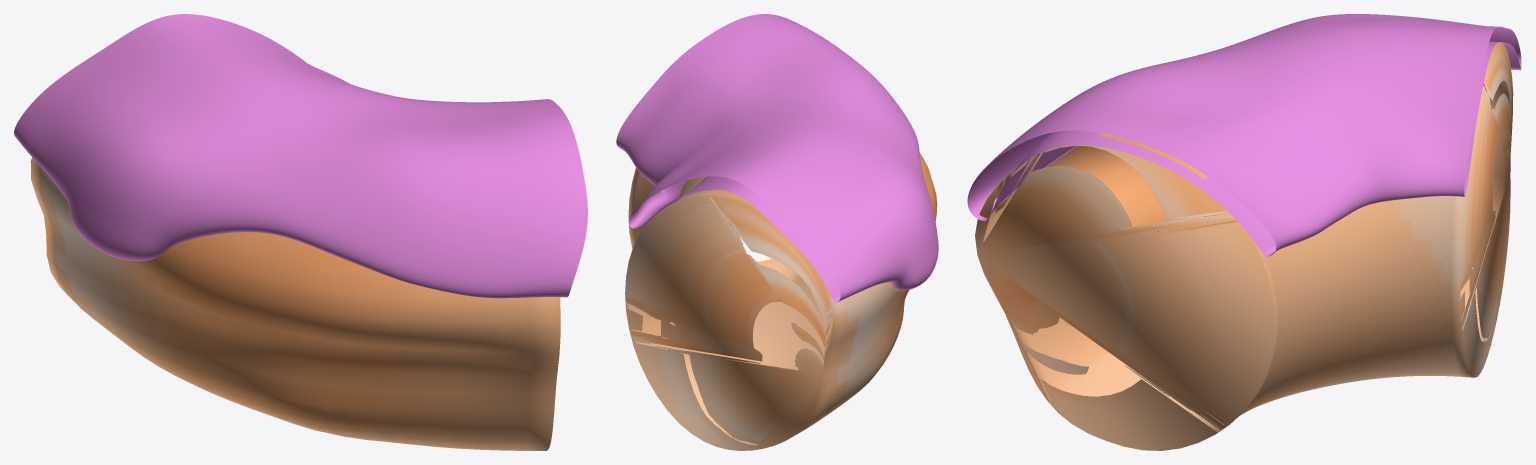
Rendered from BlenderDonutChunk.fbx.
The picture shows the model from 3 angles, left to right: view 1: azimuth 30°, elevation 25°; view 2: azimuth 150°, elevation 25°; view 3: azimuth 270°, elevation 25°; orthographic projection. The views are drawn at different scales.
Visible parts, largest first — view 1: glazed.003, donut chunk; view 2: glazed.003, donut chunk; view 3: donut chunk, glazed.003.
Boxes of the visible parts, box(x1,y1,x2,y2) form: glazed.003: box(14, 14, 587, 298); donut chunk: box(30, 157, 560, 450); glazed.003: box(616, 14, 938, 303); donut chunk: box(625, 153, 937, 450); donut chunk: box(975, 42, 1513, 450); glazed.003: box(967, 14, 1521, 257).
Size of the model in its own units: 6.81 by 5.33 by 8.19.
